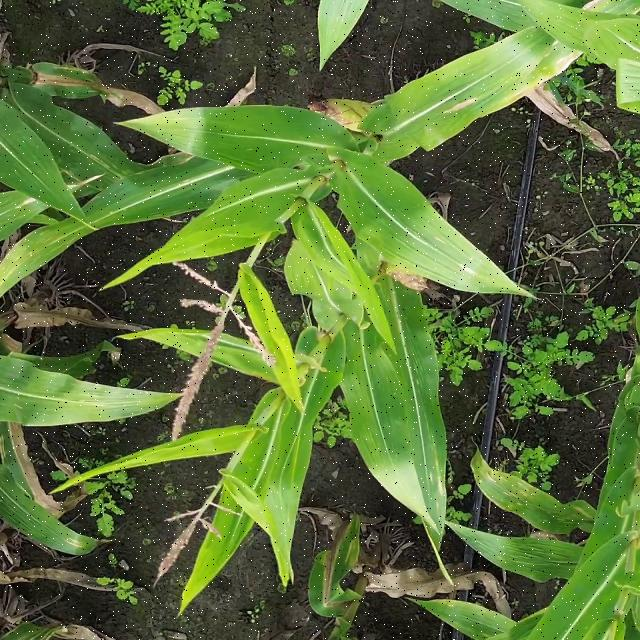gray-leaf-spot: (479, 462, 580, 584), (6, 468, 95, 570), (15, 366, 119, 418)
northern-leaf-blight: (426, 60, 514, 132)
southern-leaf-blight: (15, 119, 132, 192), (368, 348, 444, 422)
